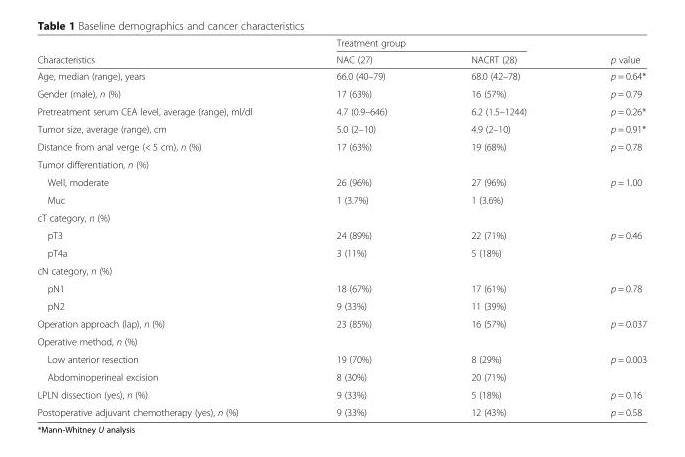table: (36, 36, 646, 417)
table column: (36, 36, 293, 417), (428, 36, 567, 417), (293, 36, 428, 417), (567, 36, 646, 417)
table column header: (36, 36, 646, 67)
table projected row header: (36, 155, 646, 173), (36, 208, 646, 226), (36, 261, 646, 279), (36, 332, 646, 350)
table row: (36, 84, 646, 102), (36, 119, 646, 137), (36, 137, 646, 155), (36, 155, 646, 173), (36, 190, 646, 208), (36, 208, 646, 226), (36, 243, 646, 261), (36, 261, 646, 279), (36, 296, 646, 314), (36, 314, 646, 332), (36, 332, 646, 350), (36, 367, 646, 385), (36, 385, 646, 403), (36, 50, 646, 67), (36, 67, 646, 84), (36, 102, 646, 119), (36, 173, 646, 190), (36, 226, 646, 243), (36, 279, 646, 296), (36, 350, 646, 367), (36, 36, 646, 50), (36, 403, 646, 417)
table spanning cell: (36, 36, 293, 67), (293, 36, 567, 50), (567, 173, 646, 208), (567, 226, 646, 261), (567, 279, 646, 314), (567, 350, 646, 385), (567, 36, 646, 67)
